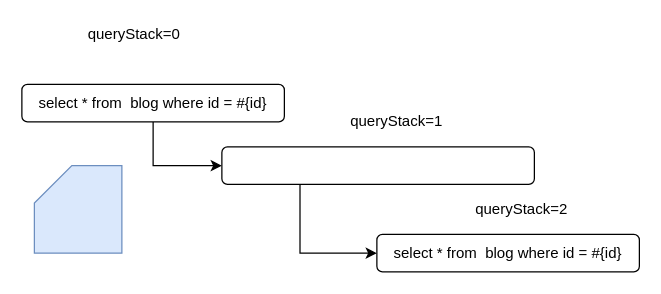
Some shapes in this 661 by 294 pixel diagram are drawn without their labels. The centre of each missing label's shape, as x and y in pixels:
"select * from comment where blog_id = #{id}" goes at point (377, 165).
"复杂查询 循环依赖" goes at point (77, 208).
